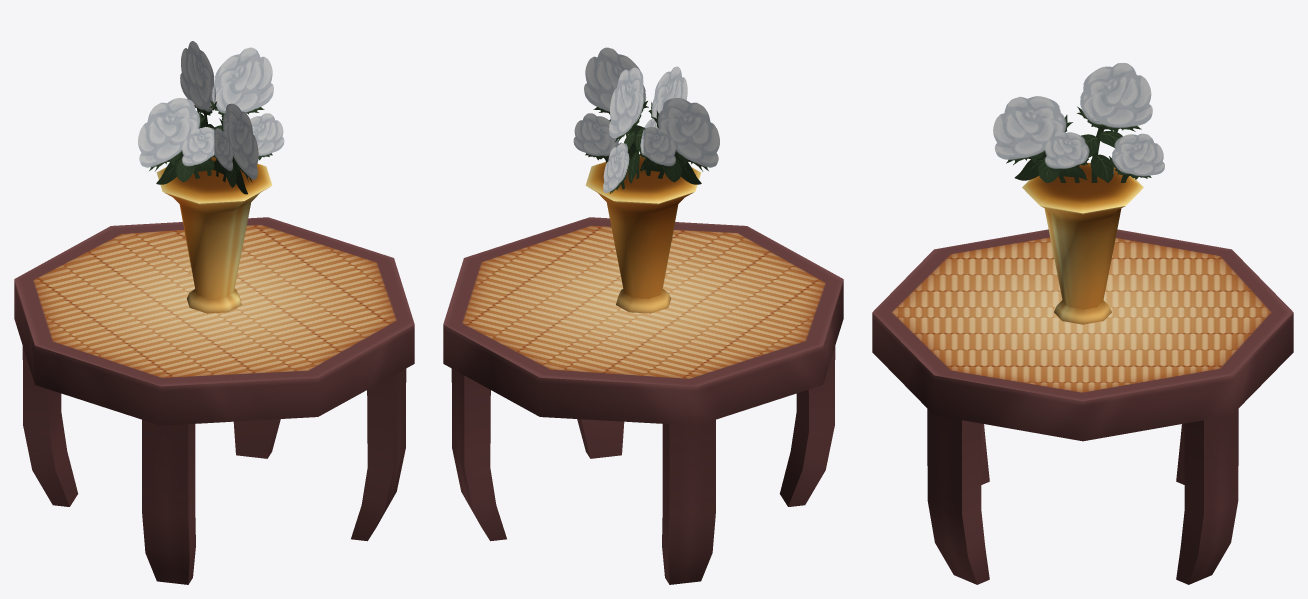
Rendered from corridor_object_rattan_table.FBX.
The picture shows the model from 3 angles, left to right: view 1: azimuth 30°, elevation 25°; view 2: azimuth 150°, elevation 25°; view 3: azimuth 270°, elevation 25°; orthographic projection.
Visible parts, largest first — view 1: Cylinder001, Object094, Cylinder085; view 2: Cylinder001, Object094, Cylinder085; view 3: Cylinder001, Object094, Cylinder085.
Boxes of the visible parts, x1,y1,x2,y2 form: Cylinder001: (14,217,414,584); Object094: (138,41,284,194); Cylinder085: (156,157,272,313); Cylinder001: (443,217,843,584); Object094: (573,47,719,193); Cylinder085: (585,155,701,313); Cylinder001: (872,229,1293,584); Object094: (993,63,1164,182); Cylinder085: (1022,162,1143,324).
Size of the model in its own units: 341 by 422 by 341.
Materials: 3 (3 with a texture image).
